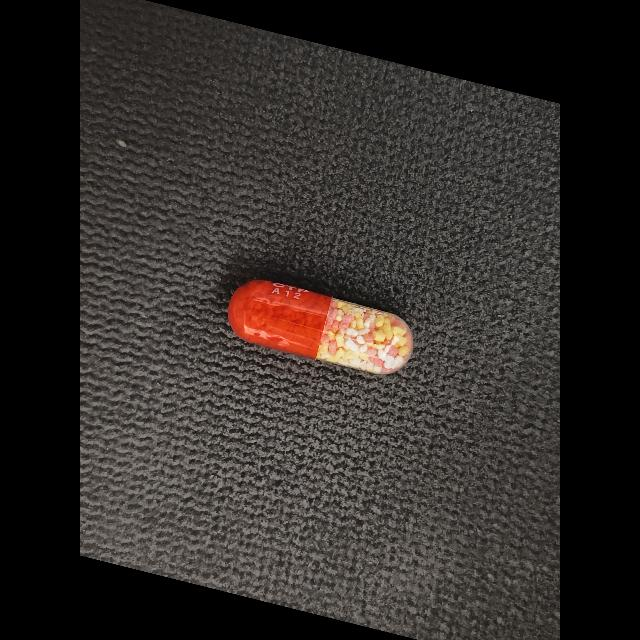Intact Capsule: (228, 280, 413, 374)
